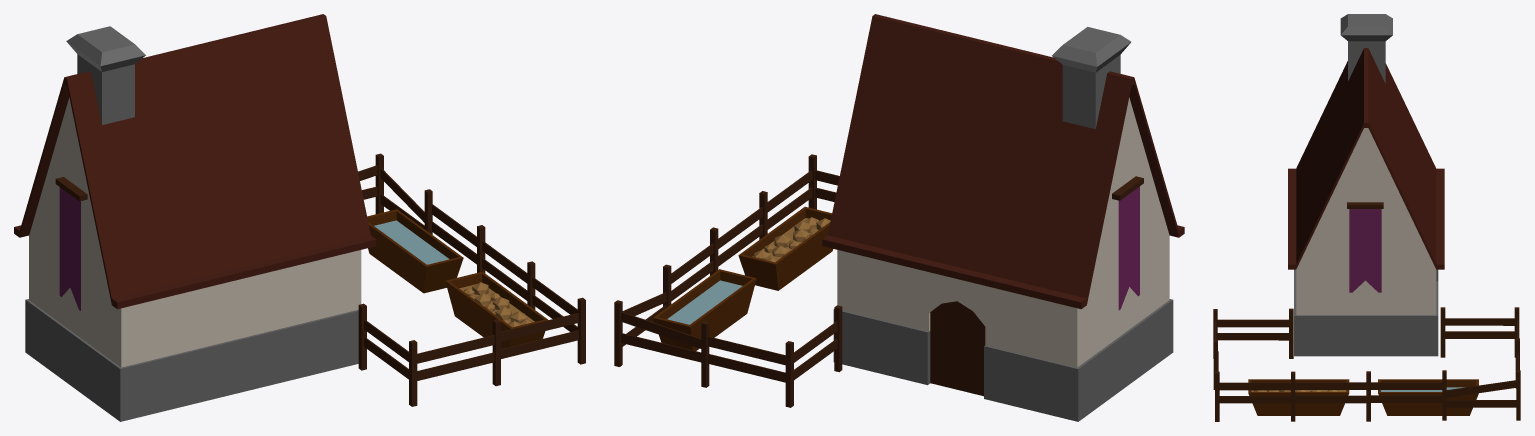
The model's file is PigPenv2.fbx.
The picture shows the model from 3 angles, left to right: view 1: azimuth 30°, elevation 25°; view 2: azimuth 150°, elevation 25°; view 3: azimuth 270°, elevation 25°; orthographic projection. The views are drawn at different scales.
Visible parts, largest first — view 1: Plane.496; view 2: Plane.496; view 3: Plane.496.
Boxes of the visible parts, x1,y1,x2,y2 form: Plane.496: [14, 14, 585, 421]; Plane.496: [614, 14, 1184, 421]; Plane.496: [1213, 14, 1520, 421].
Size of the model in its own units: 177 by 138 by 147.
